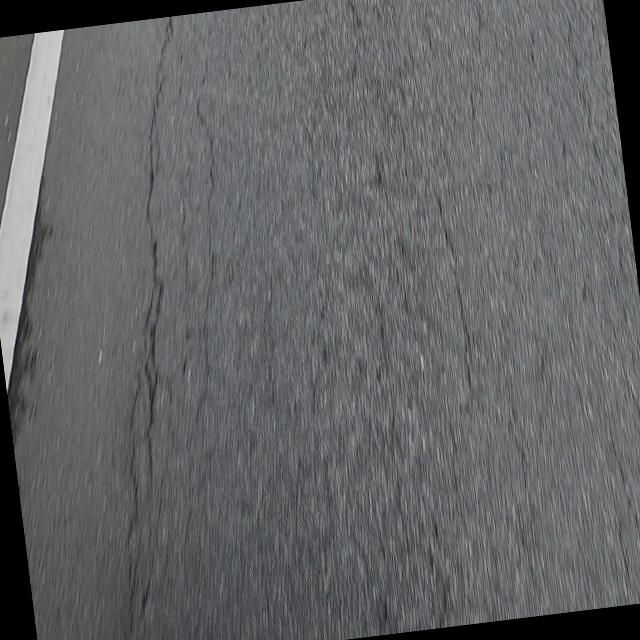Retak-Memanjang: (141, 16, 175, 494), (196, 61, 216, 429), (437, 194, 471, 391), (126, 367, 142, 583)
